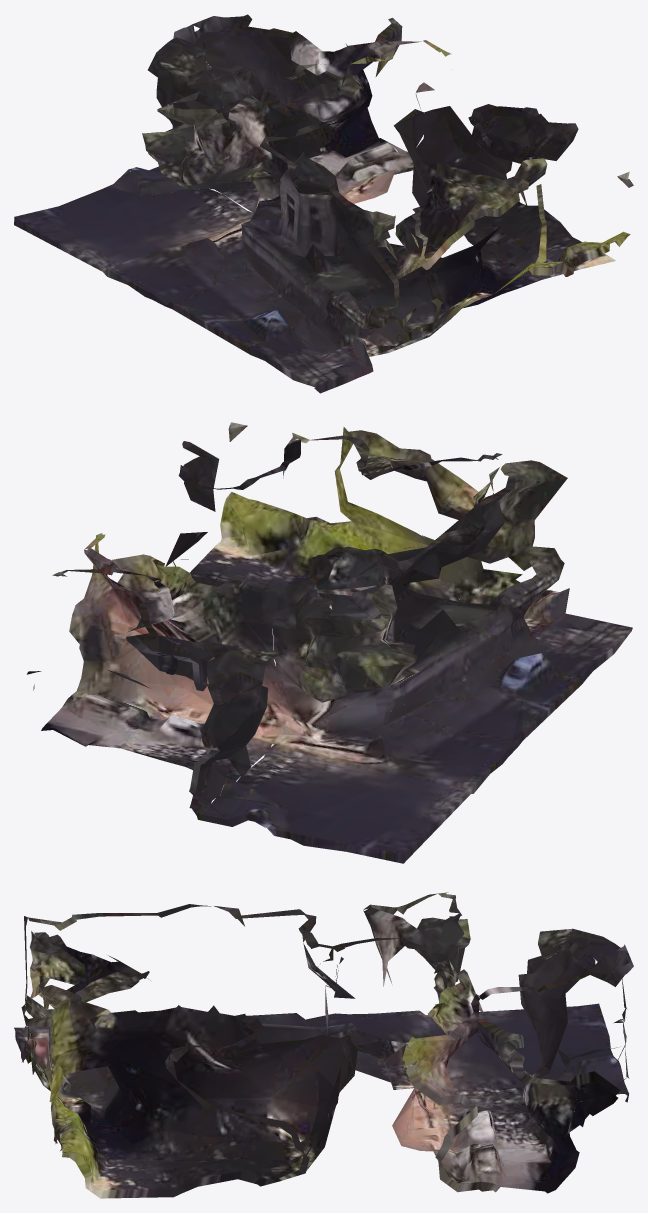
3 renders of one model, top to bottom at view 1: azimuth 30°, elevation 25°; view 2: azimuth 150°, elevation 25°; view 3: azimuth 270°, elevation 25°, orthographic. The views are drawn at different scales.
Parts seen in each view (by area): view 1: Mesh_0; view 2: Mesh_0; view 3: Mesh_0.
Part boxes in pixels (left/top/right/bottom): Mesh_0: left=14, top=14, right=633, bottom=393; Mesh_0: left=27, top=422, right=632, bottom=863; Mesh_0: left=14, top=892, right=633, bottom=1198.
Bounding box in the file's own units: 33.61 × 12.34 × 40.19.
Materials: 2 (2 with a texture image).
